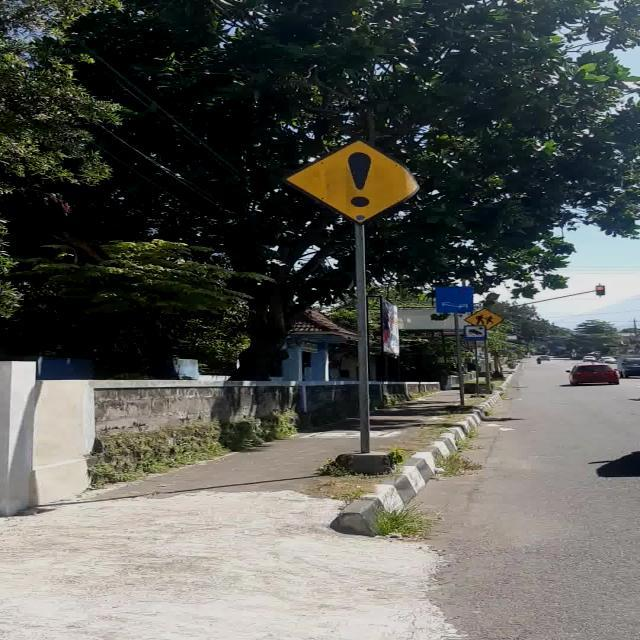Hati-Hati: (282, 137, 421, 225)
